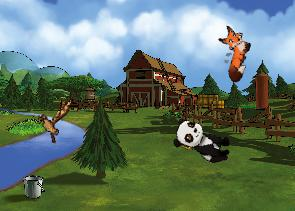eagle: (34, 95, 74, 145)
fox: (208, 24, 256, 83)
panda: (169, 115, 236, 167)
